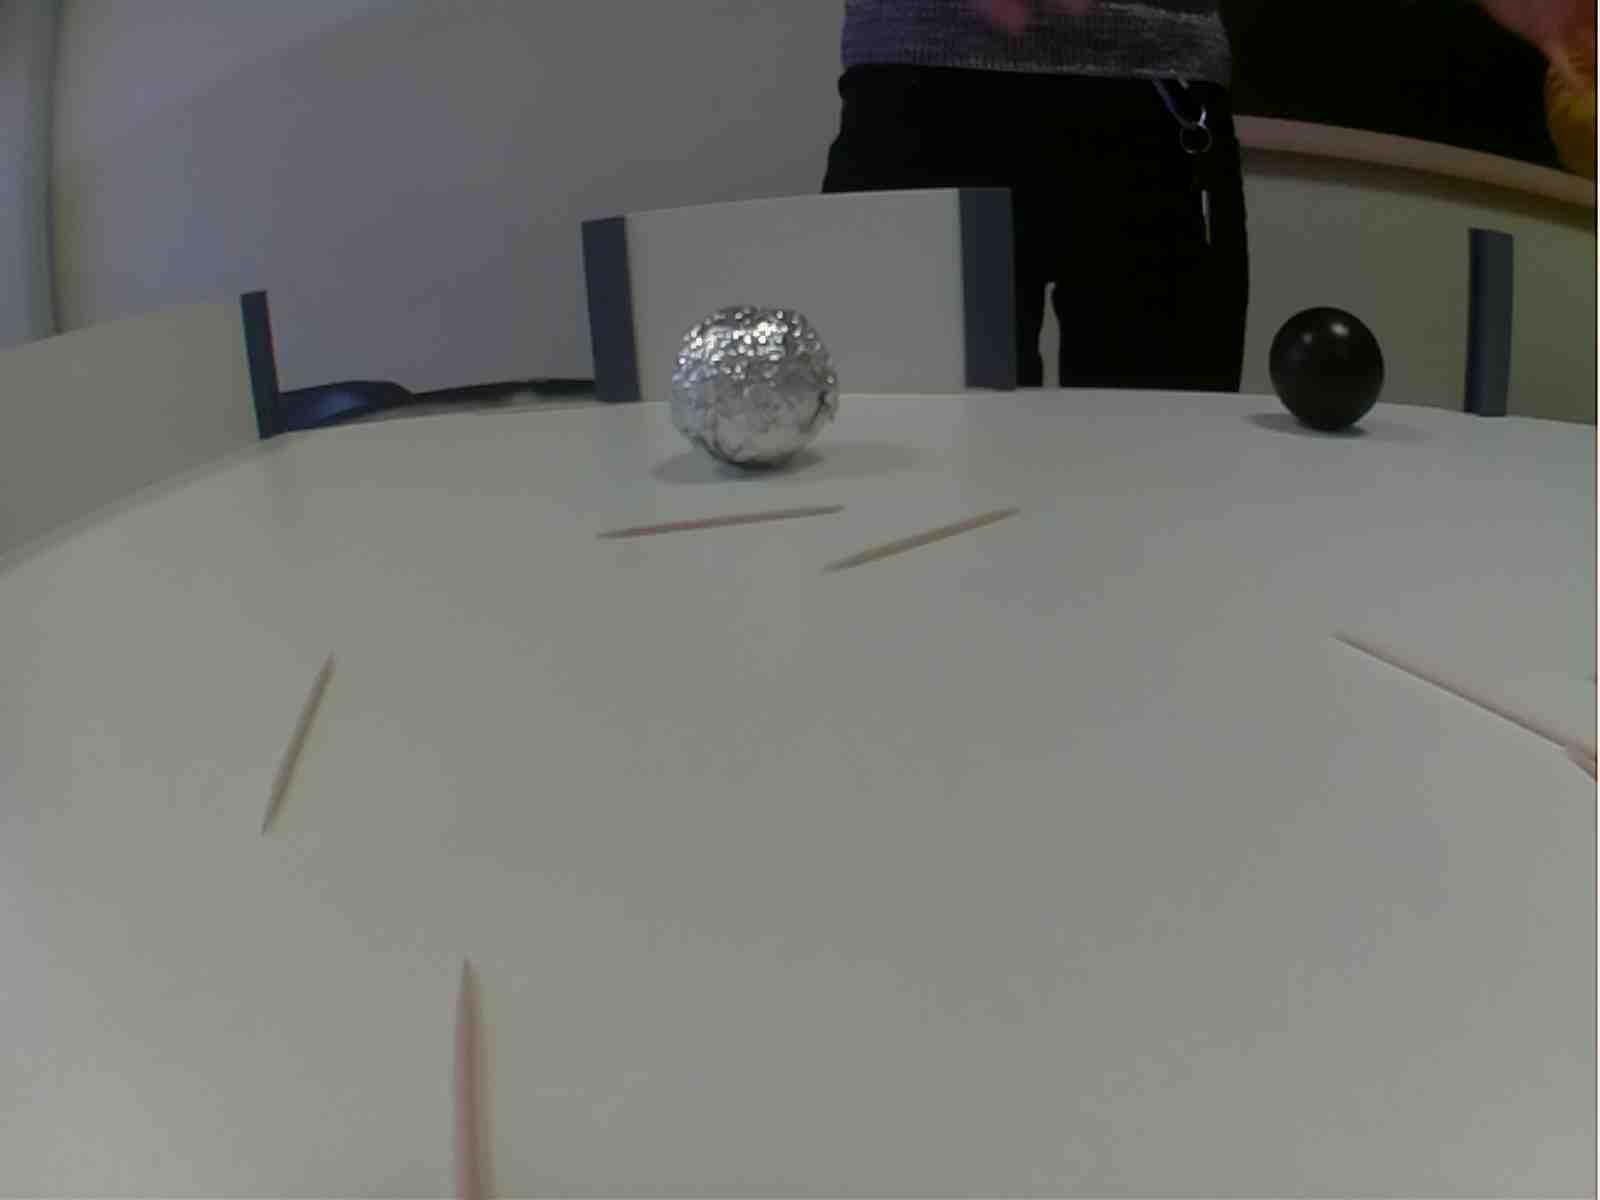bianca: (664, 305, 845, 474)
nera: (1259, 304, 1391, 432)
